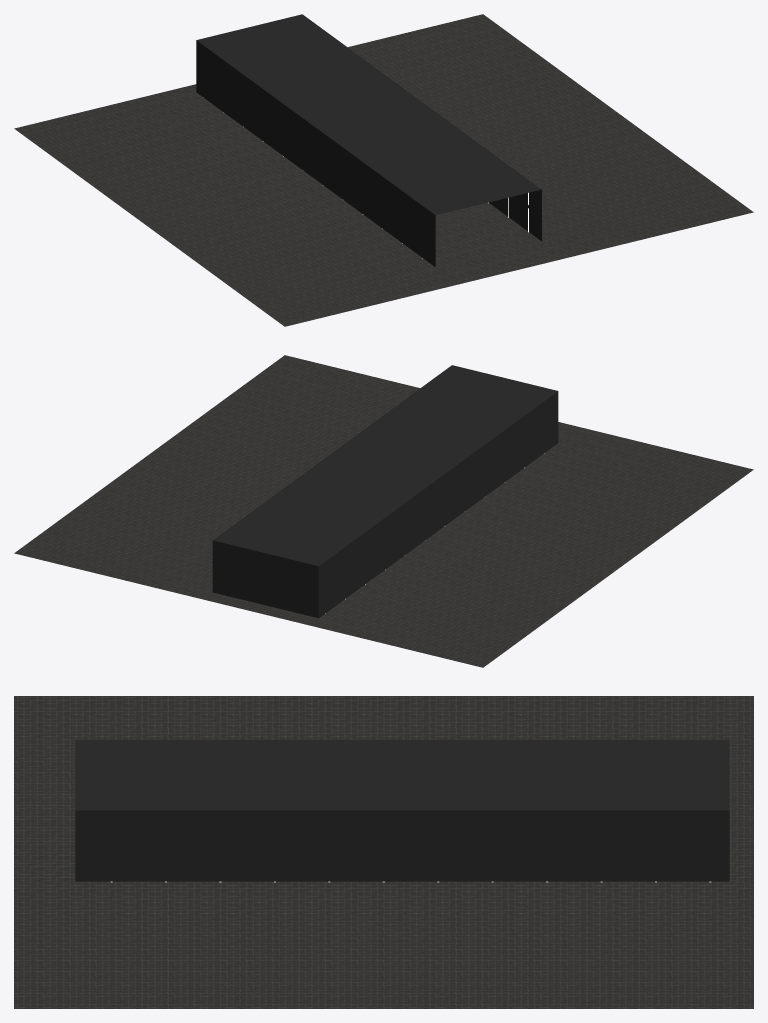
The model's file is show.glb.
3 renders of one model, top to bottom at view 1: azimuth 30°, elevation 25°; view 2: azimuth 150°, elevation 25°; view 3: azimuth 270°, elevation 25°, orthographic. The views are drawn at different scales.
Parts seen in each view (by area): view 1: ground, wall; view 2: ground, wall; view 3: ground, wall.
Part boxes in pixels (left/top/right/bottom): ground: left=14, top=14, right=753, bottom=326; wall: left=196, top=14, right=541, bottom=266; ground: left=14, top=355, right=753, bottom=667; wall: left=212, top=365, right=558, bottom=618; ground: left=14, top=696, right=753, bottom=1008; wall: left=75, top=739, right=729, bottom=881.
Bounding box in the file's own units: 28.28 × 3.05 × 28.28.
Materials: 3 (1 with a texture image).
